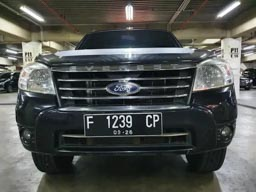plat: (81, 112, 161, 129)
